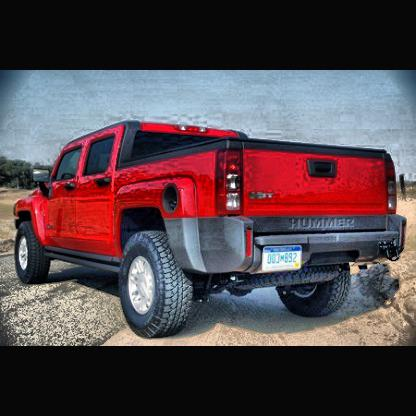HUMMER H3T Crew Cab 2010: (14, 121, 409, 339)
